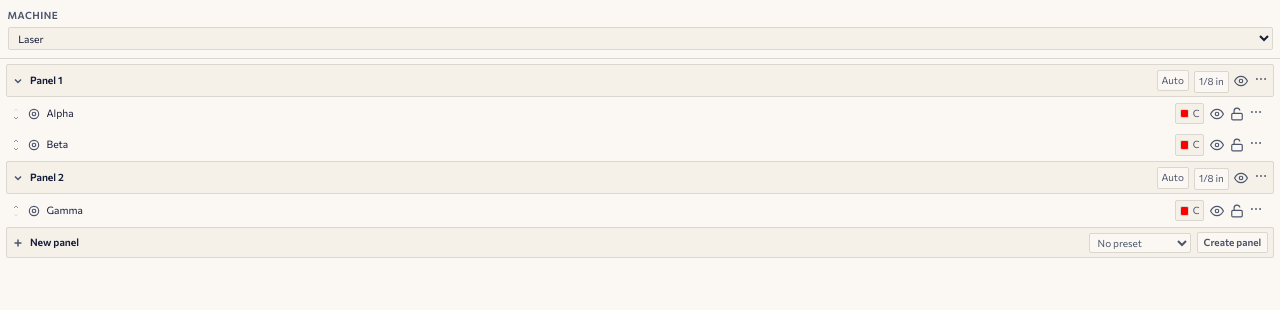
LayerTree — grouped panel tier (WI-5, spec §6) › renames a panel inline and edits its substrate (other reveals a label input)
The image size is (1280, 310).
// Inline rename.
Double-click the text "Panel 1" at point(46, 80), box [30,74,63,86]
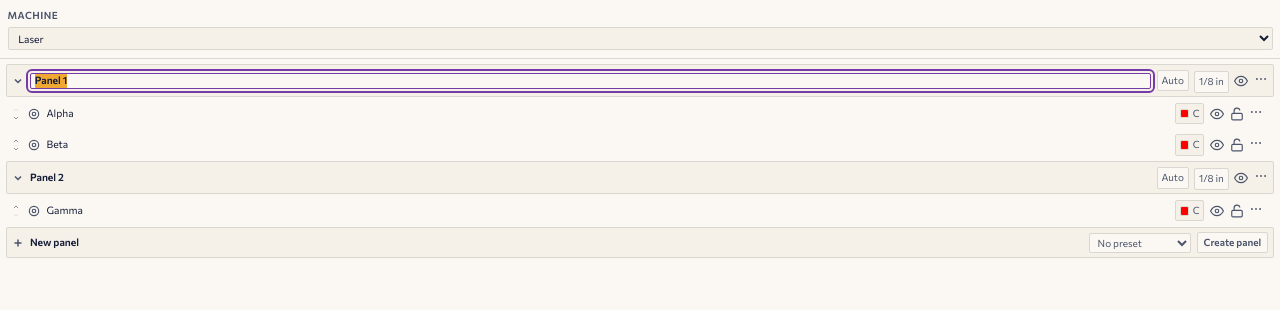
Replace the text in the field with "  Front  " at point(590, 81), box [30,73,1151,89]
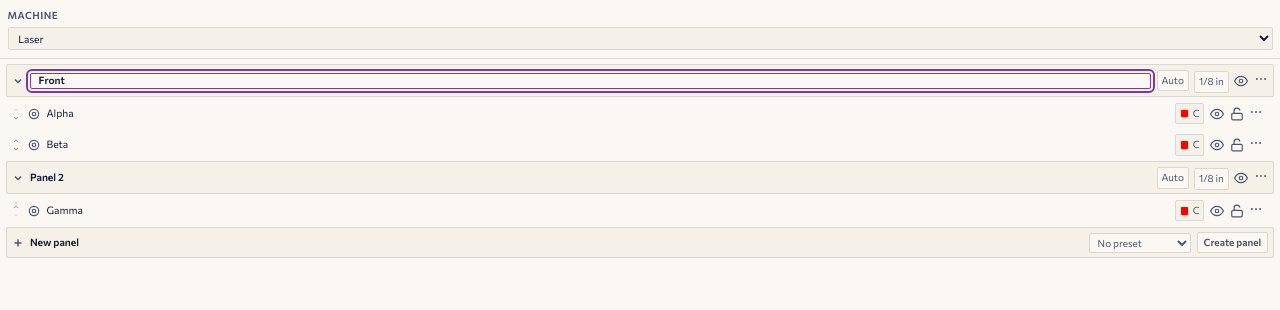
Press Enter in the field, box [30,73,1151,89]
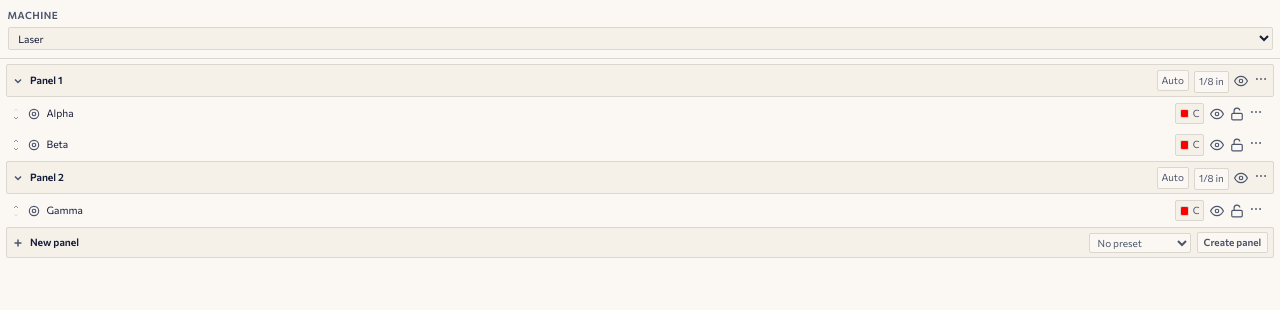
Click the button named "Panel options" in the row of "Panel 1" at point(1261, 79), box [1254,72,1268,86]
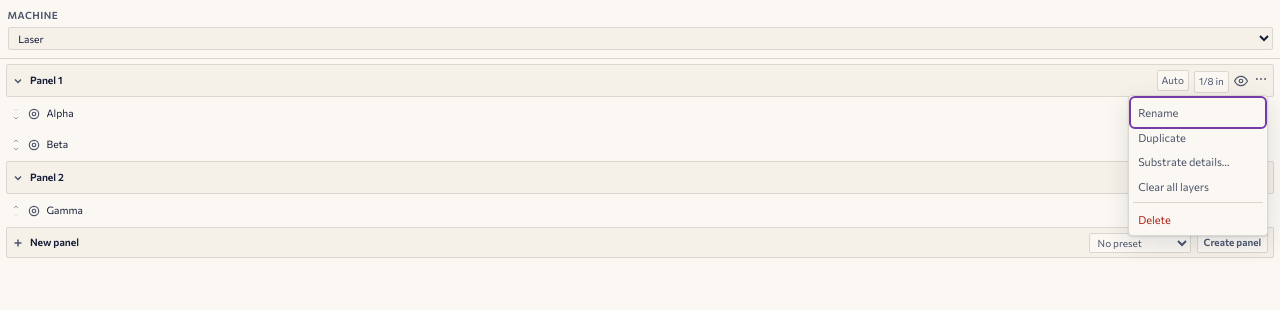
Click the menu item "Substrate details…" at point(1184, 162), box [1138,155,1230,168]
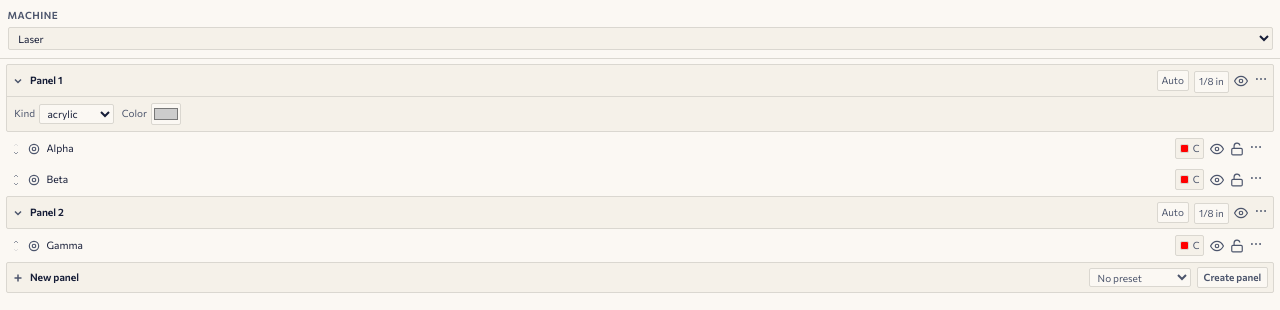
Now the dropdown named "Substrate kind" is shown
Now the colour field named "Substrate color" is shown, box [151,103,181,125]
Select "other" in the dropdown named "Substrate kind" at point(76, 114), box [39,104,114,124]
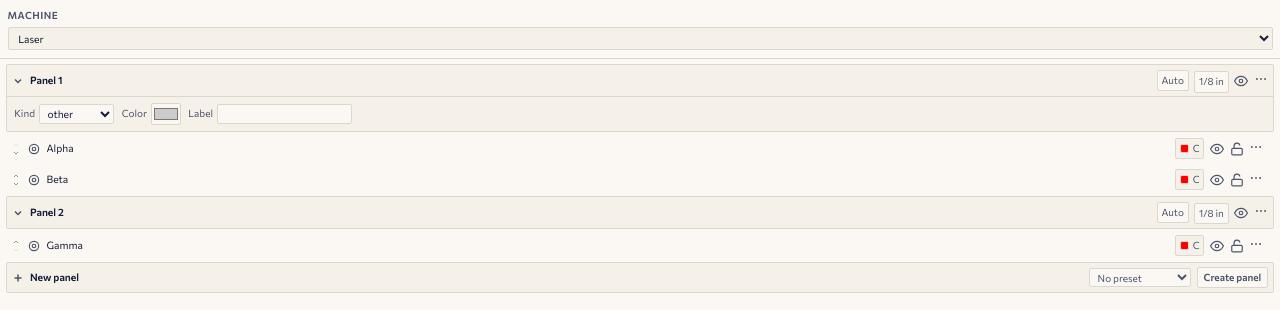
Now the field named "Substrate label" is shown, box [217,104,352,124]
